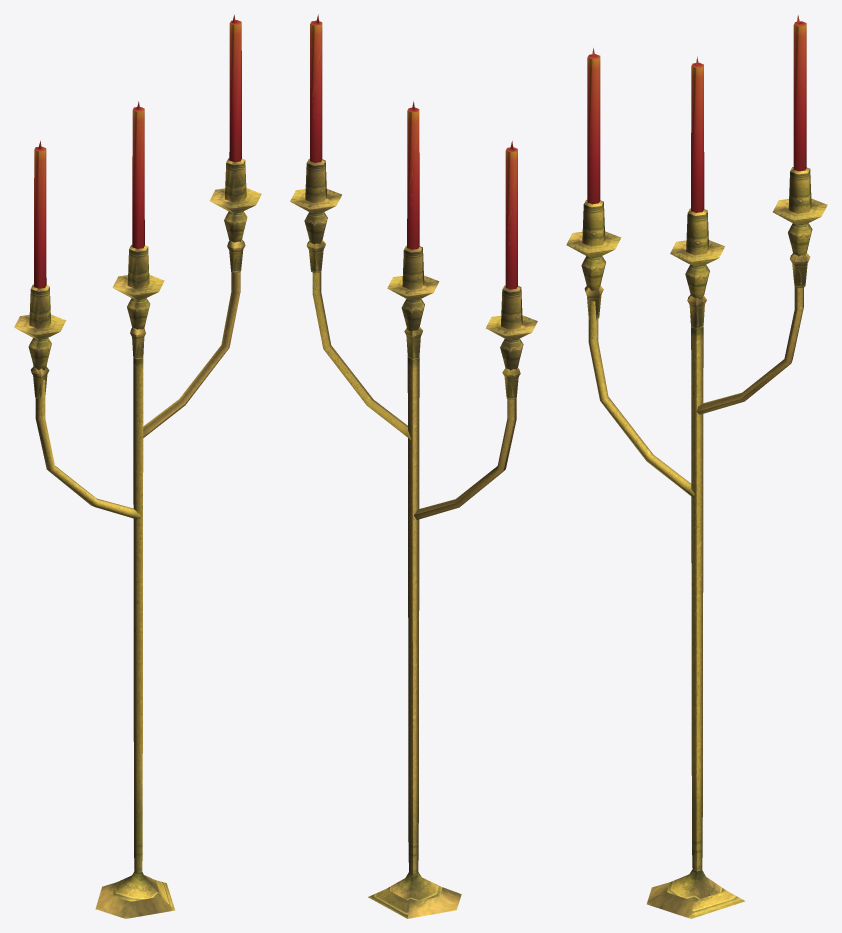
File: Chandelier_lod.fbx
3 views of the same model, side by side, from view 1: azimuth 30°, elevation 25°; view 2: azimuth 150°, elevation 25°; view 3: azimuth 330°, elevation 25° (orthographic). The views are drawn at different scales.
Visible parts, largest first — view 1: Mesh Object; view 2: Mesh Object; view 3: Mesh Object.
Boxes of the visible parts, x1,y1,x2,y2 form: Mesh Object: (14, 14, 261, 918); Mesh Object: (290, 14, 537, 918); Mesh Object: (566, 15, 827, 918).
Bounding box in the file's own units: 0.9153 × 3.11 × 0.2791.
